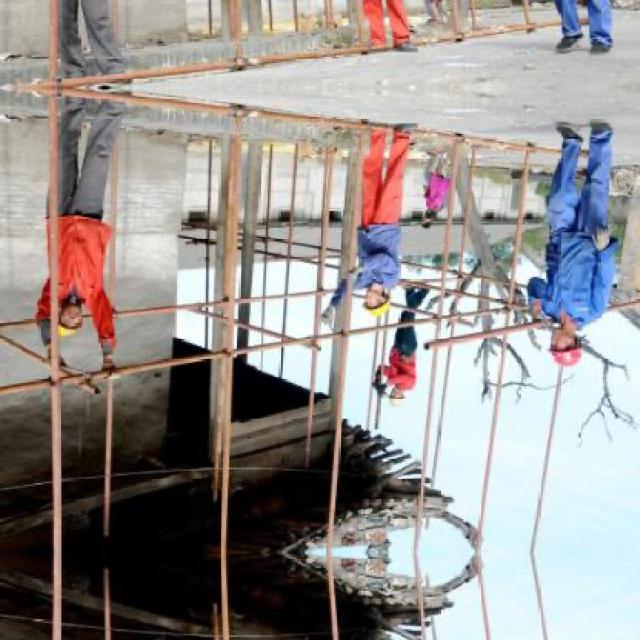con casco: (551, 314, 608, 378), (54, 300, 106, 360), (347, 292, 396, 338)
